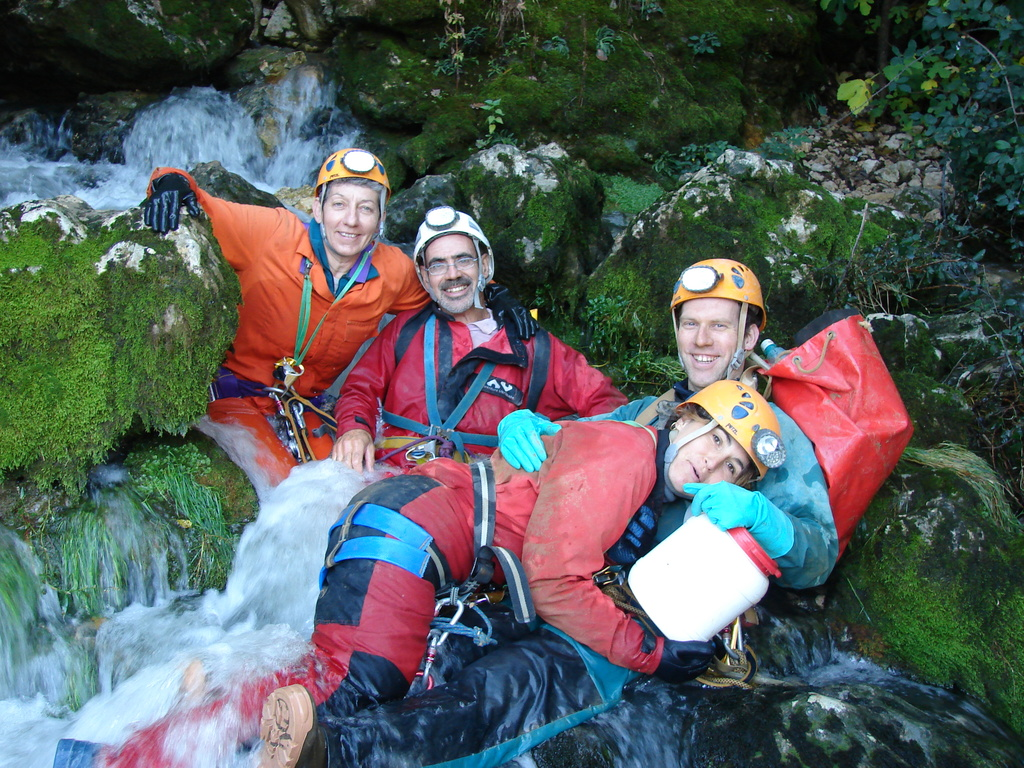Person: (179, 256, 837, 768), (51, 379, 776, 768), (138, 148, 539, 505), (333, 206, 627, 486)
